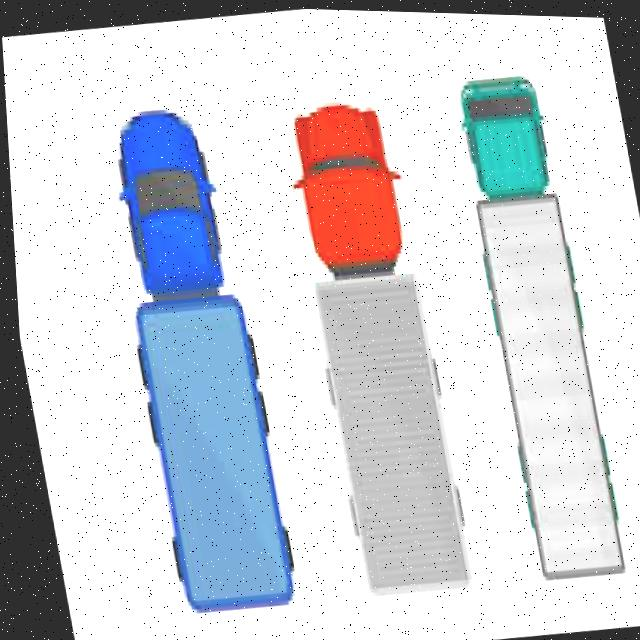truck: (93, 95, 291, 613), (281, 92, 467, 595), (449, 61, 624, 580)
